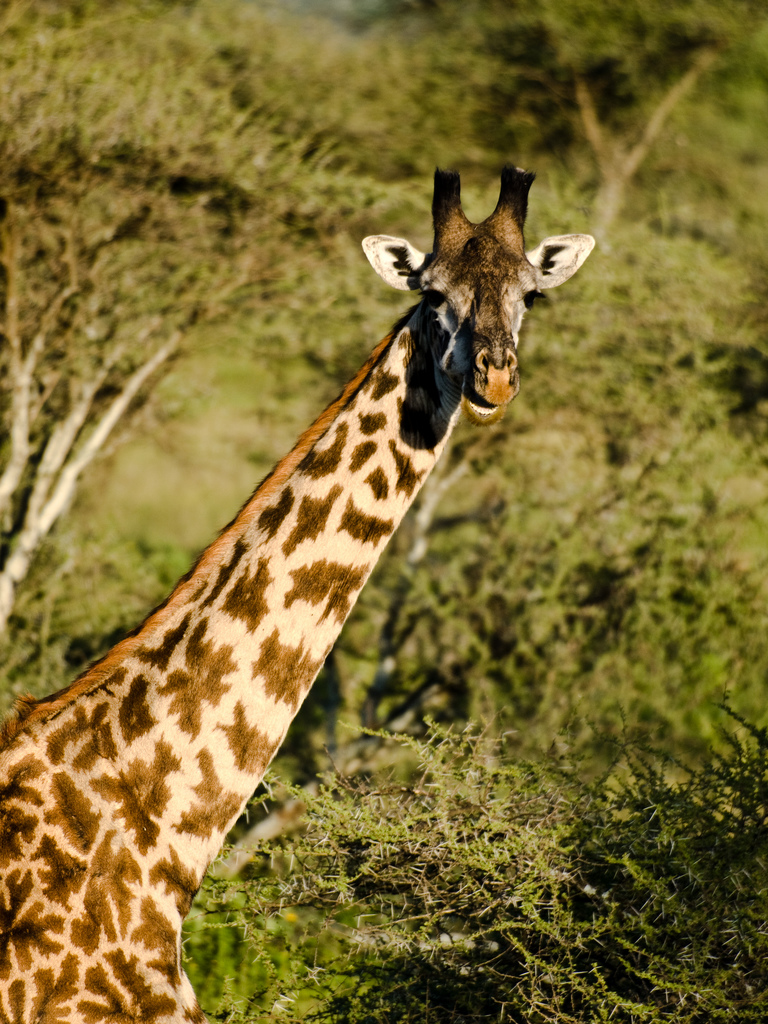giraffe: (35, 155, 599, 987)
